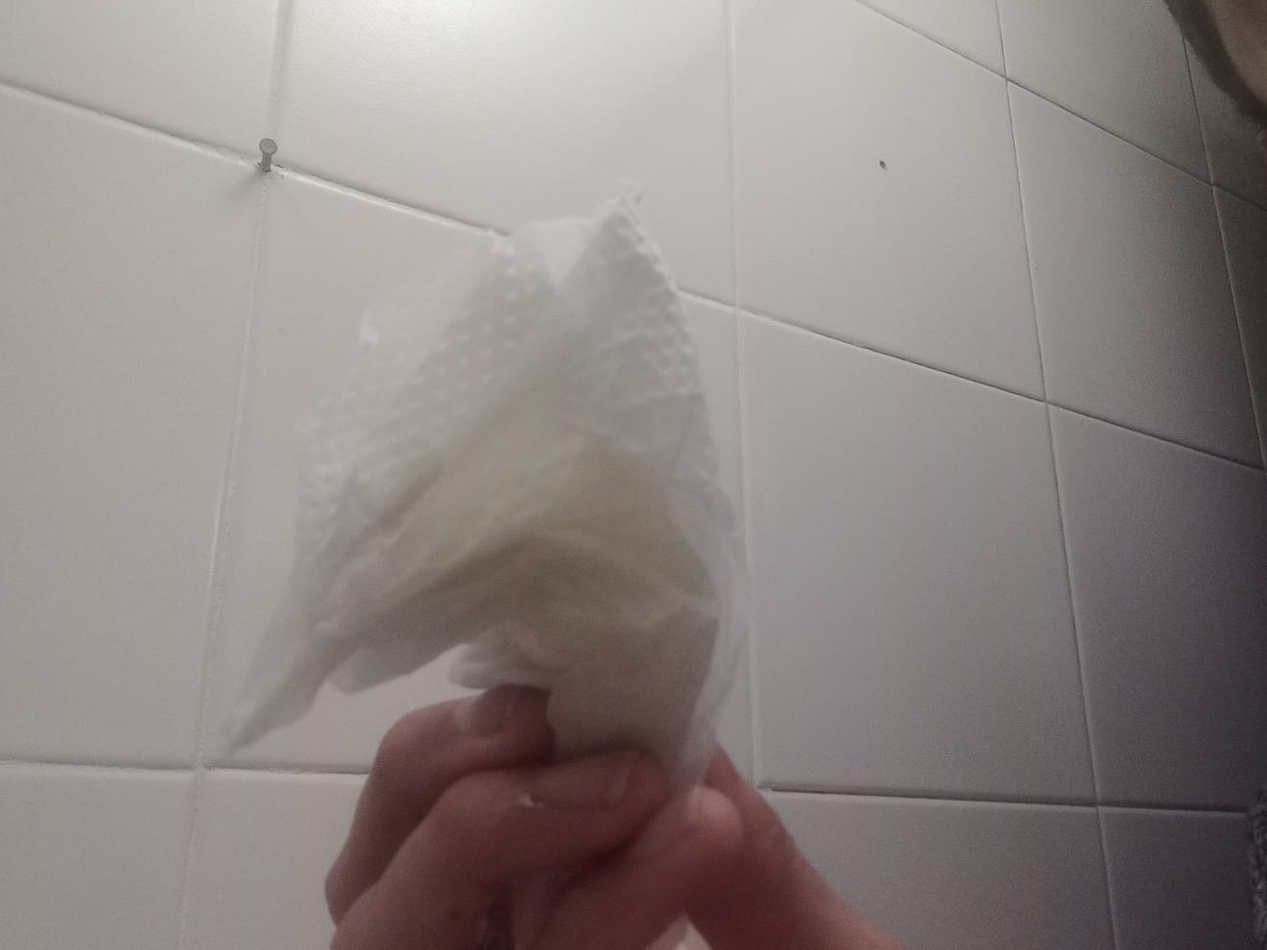Ordinario: (209, 182, 745, 787)
